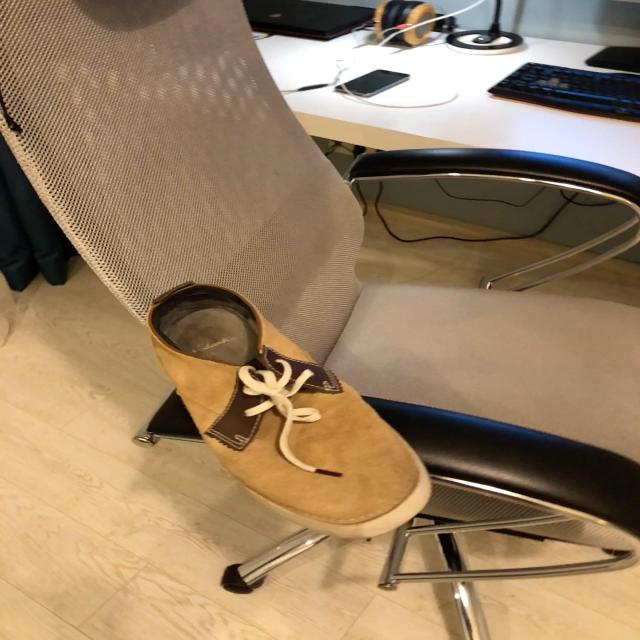shoe: (143, 287, 432, 539)
